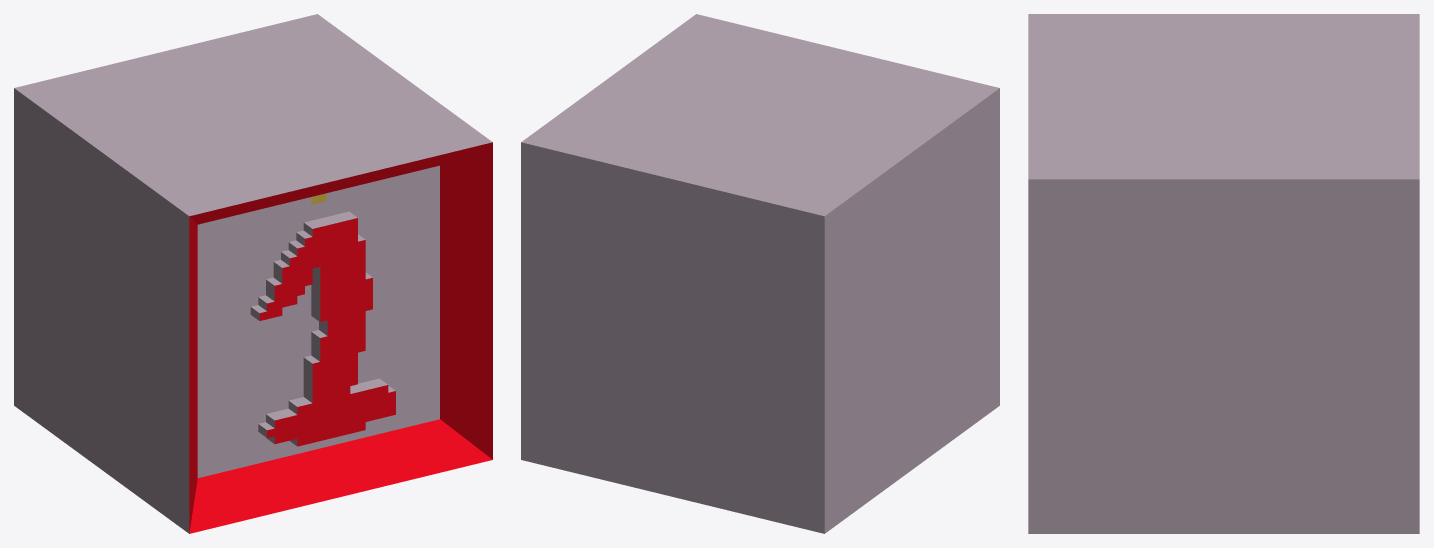
Rendered from Block1.fbx.
The picture shows the model from 3 angles, left to right: view 1: azimuth 30°, elevation 25°; view 2: azimuth 150°, elevation 25°; view 3: azimuth 270°, elevation 25°; orthographic projection. The views are drawn at different scales.
Visible parts, largest first — view 1: Cube; view 2: Cube; view 3: Cube.
Boxes of the visible parts, x1=… form: Cube: x1=14, y1=14, x2=492, y2=533; Cube: x1=521, y1=14, x2=999, y2=533; Cube: x1=1028, y1=14, x2=1419, y2=533.
Bounding box in the file's own units: 2000 × 2000 × 2000.
